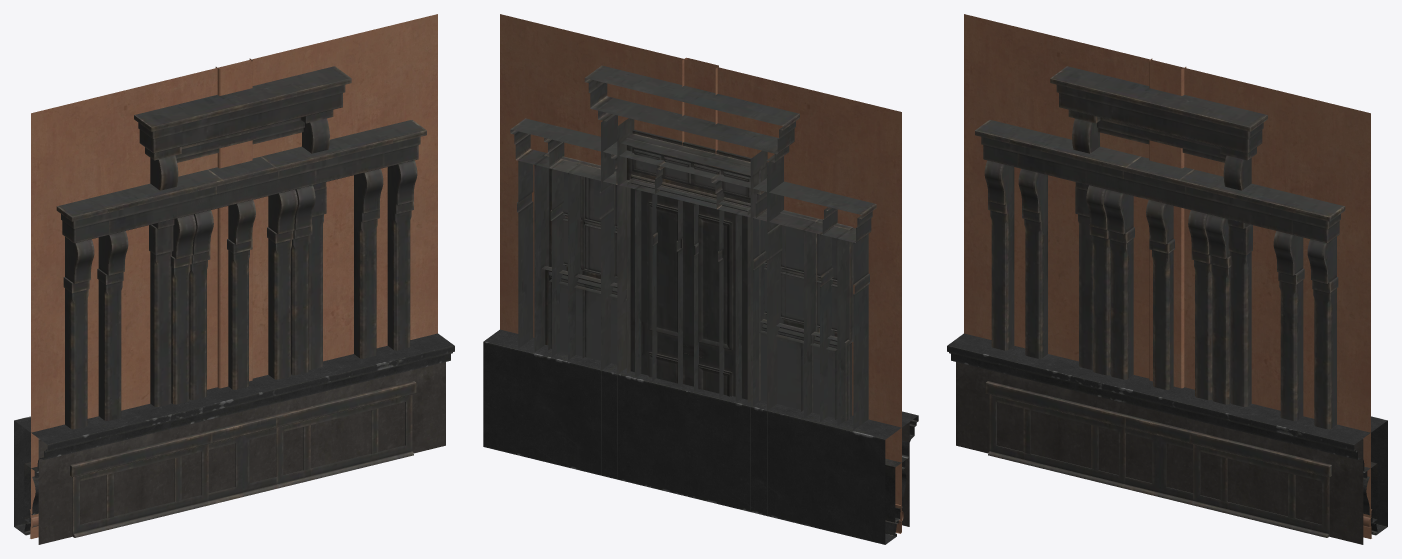
Rendered from architecture.glb.
3 views of the same model, side by side, from view 1: azimuth 30°, elevation 25°; view 2: azimuth 150°, elevation 25°; view 3: azimuth 330°, elevation 25° (orthographic).
Visible parts, largest first — view 1: wall_window_centered_large_01, window_centered_double_01, window_centered_large_01, base_standard_01, door_centered_small_01, wall_door_centered_small_01, crown_standard_standard_01, window_centered_small_01, wall_door_window_small_01, wall_window_centered_small_01, wall_pier_standard_01, wall_standard_standard_01; view 2: crown_standard_standard_01, wall_window_centered_large_01, door_centered_small_01, window_centered_double_01, window_centered_large_01, wall_door_centered_small_01, wall_door_window_small_01, window_centered_small_01, wall_window_centered_small_01, base_standard_01; view 3: wall_window_centered_large_01, window_centered_double_01, window_centered_large_01, base_standard_01, wall_door_centered_small_01, door_centered_small_01, crown_standard_standard_01, window_centered_small_01, wall_door_window_small_01, wall_window_centered_small_01, wall_pier_standard_01, wall_standard_standard_01.
Part boxes in pixels (<box>): wall_window_centered_large_01: <box>31,14,437,538</box>; window_centered_double_01: <box>56,120,426,537</box>; window_centered_large_01: <box>97,139,392,526</box>; base_standard_01: <box>38,362,445,544</box>; door_centered_small_01: <box>134,66,351,406</box>; wall_door_centered_small_01: <box>31,16,437,515</box>; crown_standard_standard_01: <box>14,333,454,535</box>; window_centered_small_01: <box>170,157,318,510</box>; wall_door_window_small_01: <box>31,23,418,534</box>; wall_window_centered_small_01: <box>125,19,437,360</box>; wall_pier_standard_01: <box>215,58,252,388</box>; wall_standard_standard_01: <box>138,51,301,388</box>; crown_standard_standard_01: <box>483,329,918,544</box>; wall_window_centered_large_01: <box>500,14,901,532</box>; door_centered_small_01: <box>584,65,799,515</box>; window_centered_double_01: <box>510,118,876,430</box>; window_centered_large_01: <box>544,137,837,421</box>; wall_door_centered_small_01: <box>500,16,901,493</box>; wall_door_window_small_01: <box>521,23,901,522</box>; window_centered_small_01: <box>611,154,766,405</box>; wall_window_centered_small_01: <box>500,20,808,332</box>; base_standard_01: <box>902,422,909,526</box>; wall_window_centered_large_01: <box>964,14,1370,538</box>; window_centered_double_01: <box>975,120,1345,537</box>; window_centered_large_01: <box>1009,139,1304,526</box>; base_standard_01: <box>956,362,1363,544</box>; wall_door_centered_small_01: <box>964,15,1370,440</box>; door_centered_small_01: <box>1050,66,1267,406</box>; crown_standard_standard_01: <box>947,333,1387,535</box>; window_centered_small_01: <box>1077,156,1231,509</box>; wall_door_window_small_01: <box>964,23,1353,389</box>; wall_window_centered_small_01: <box>1058,45,1370,538</box>; wall_pier_standard_01: <box>1149,58,1186,388</box>; wall_standard_standard_01: <box>1071,50,1234,389</box>.
Bounding box in the file's own units: 3 × 3 × 0.4401.
Materials: 5 (5 with a texture image).
